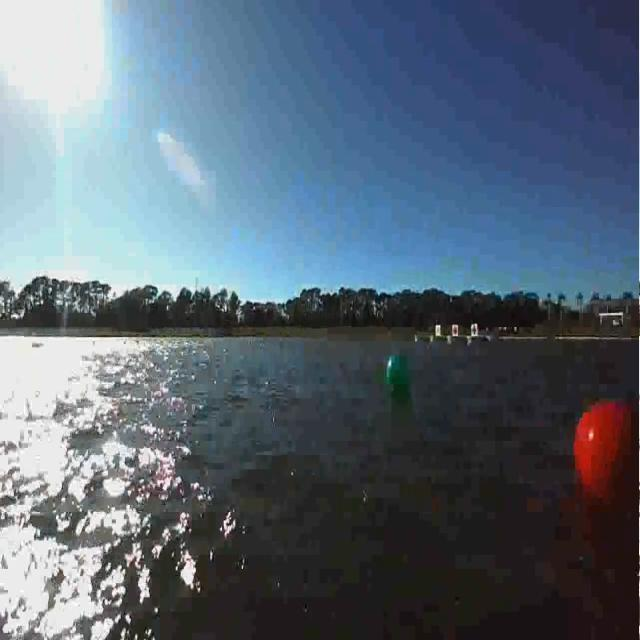green-buoy: (383, 353, 412, 388)
red-buoy: (572, 400, 632, 508)
